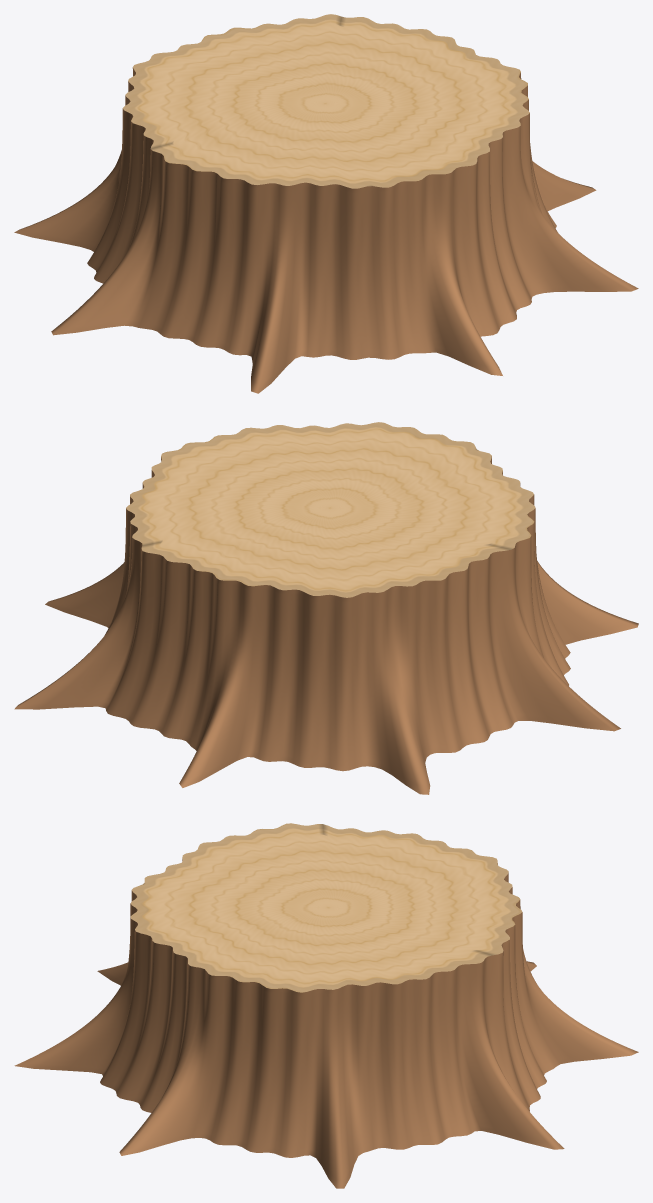
Rendered from forest_tree_stump.glb.
The picture shows the model from 3 angles, top to bottom: view 1: azimuth 30°, elevation 25°; view 2: azimuth 150°, elevation 25°; view 3: azimuth 270°, elevation 25°; orthographic projection. The views are drawn at different scales.
Parts seen in each view (by area): view 1: Forest_Stump; view 2: Forest_Stump; view 3: Forest_Stump.
Boxes of the visible parts, x1,y1,x2,y2 form: Forest_Stump: [14, 14, 638, 393]; Forest_Stump: [14, 422, 638, 794]; Forest_Stump: [14, 823, 638, 1188].
Size of the model in its own units: 3.09 by 0.833 by 3.11.
